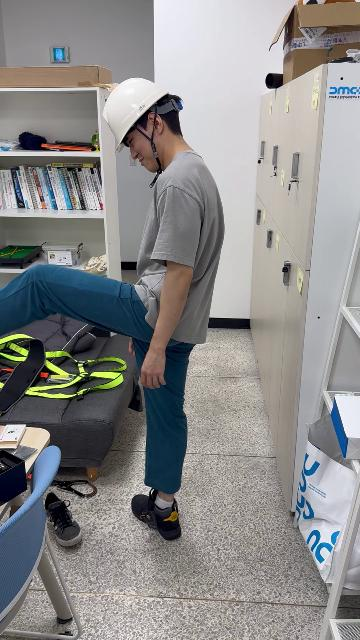helmet_worn: (101, 76, 170, 152)
shoe_not_worn: (44, 492, 82, 547)
shoe_worn: (131, 488, 181, 539)
vest_not_worn: (135, 176, 222, 347)
